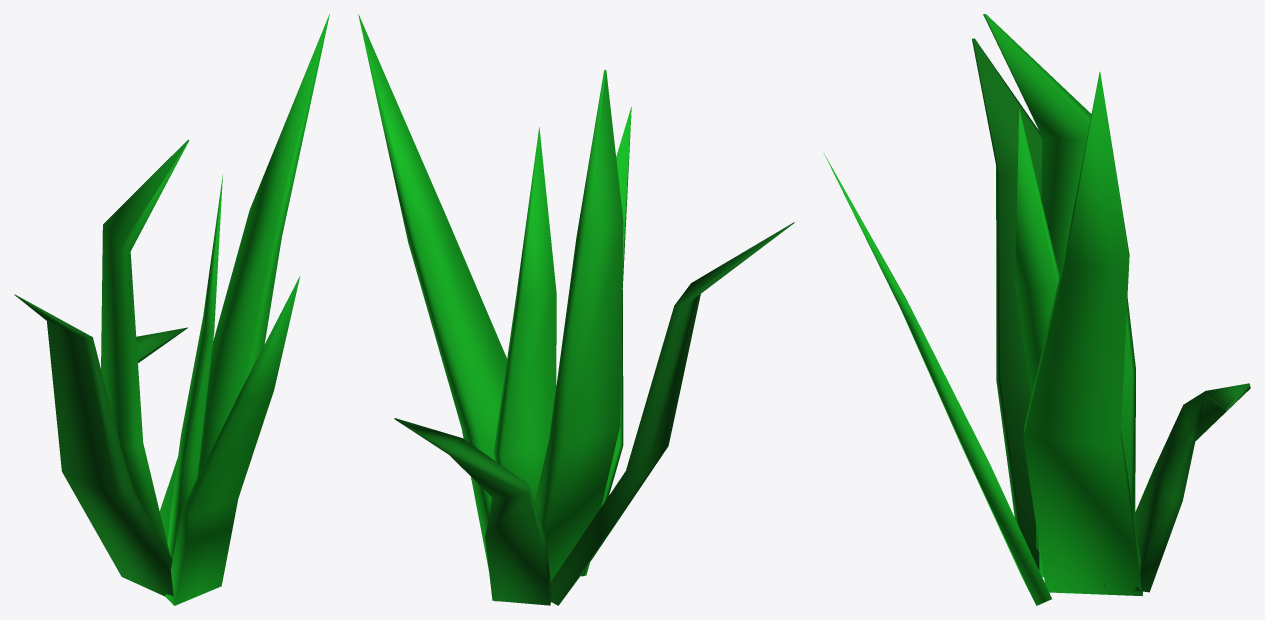
Rendered from cesped_Pequeno.glb.
The picture shows the model from 3 angles, left to right: view 1: azimuth 30°, elevation 25°; view 2: azimuth 150°, elevation 25°; view 3: azimuth 270°, elevation 25°; orthographic projection. The views are drawn at different scales.
Parts seen in each view (by area): view 1: Cube; view 2: Cube; view 3: Cube.
Part boxes in pixels (left/top/right/bottom): Cube: left=14, top=14, right=329, bottom=605; Cube: left=358, top=14, right=794, bottom=605; Cube: left=824, top=14, right=1250, bottom=605.
Size of the model in its own units: 0.7053 by 0.9539 by 0.6016.
